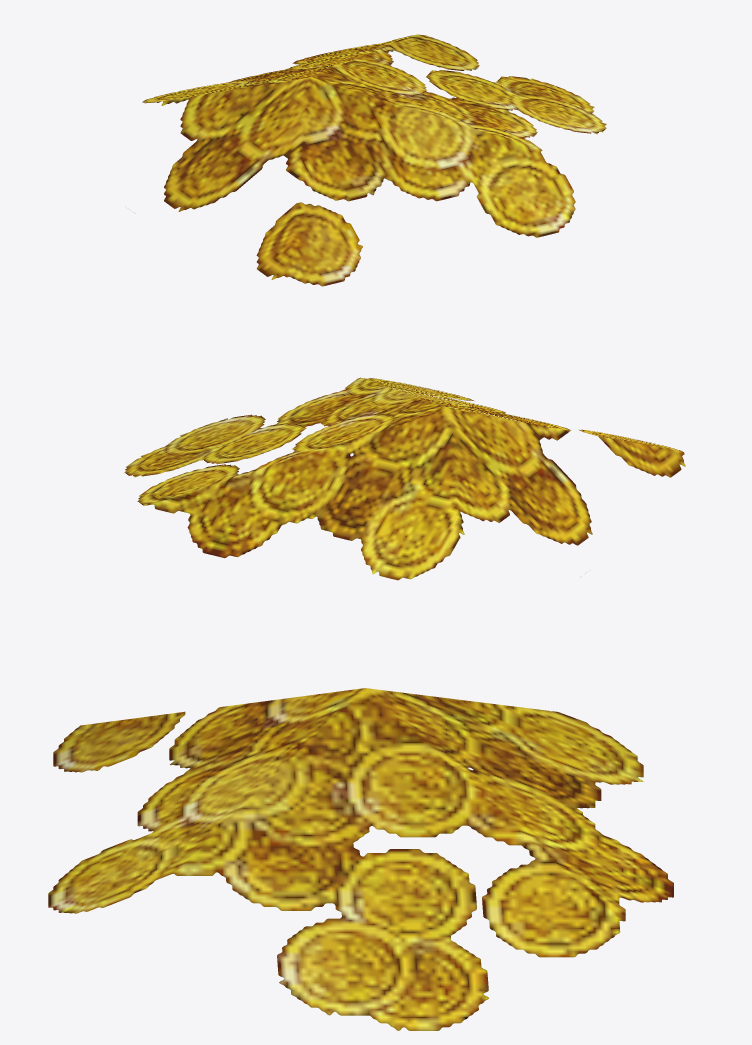
File: drop_ch_money_small.glb
The picture shows the model from 3 angles, top to bottom: view 1: azimuth 30°, elevation 25°; view 2: azimuth 150°, elevation 25°; view 3: azimuth 270°, elevation 25°; orthographic projection. The views are drawn at different scales.
Parts seen in each view (by area): view 1: drop_ch_money_small; view 2: drop_ch_money_small; view 3: drop_ch_money_small.
Part boxes in pixels (bbox=[...]): drop_ch_money_small: bbox=[129, 34, 606, 286]; drop_ch_money_small: bbox=[124, 377, 685, 580]; drop_ch_money_small: bbox=[48, 688, 673, 1030].
Size of the model in its own units: 0.346 by 0.0806 by 0.3568.
1 material, 1 textured.
